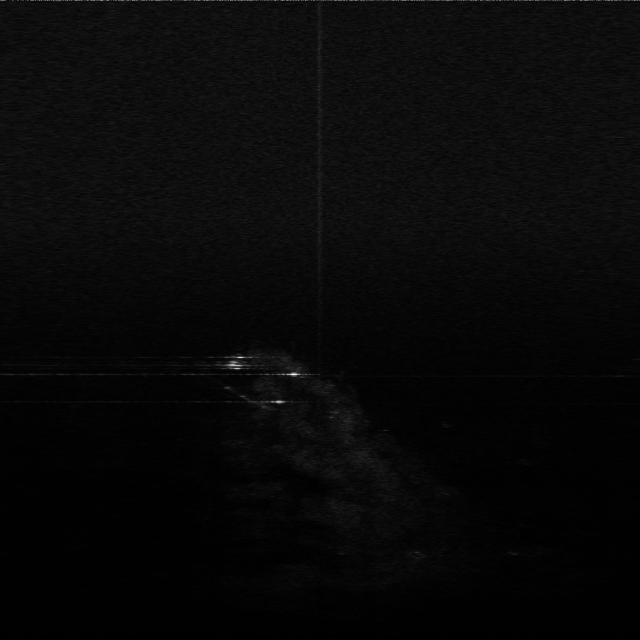rov: (221, 351, 253, 374)
